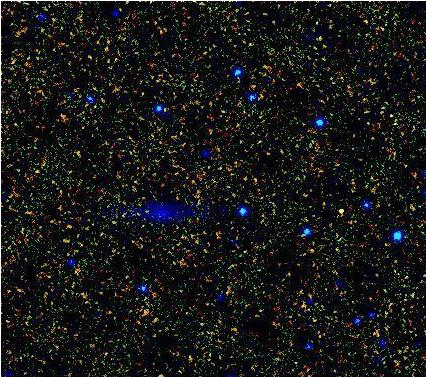star: (326, 195, 356, 225)
